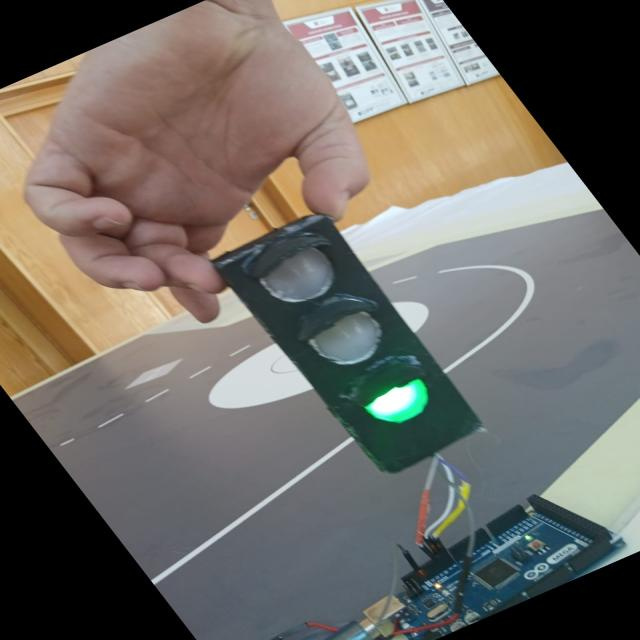green: (365, 380, 429, 424)
trafic lights: (213, 215, 481, 473)
